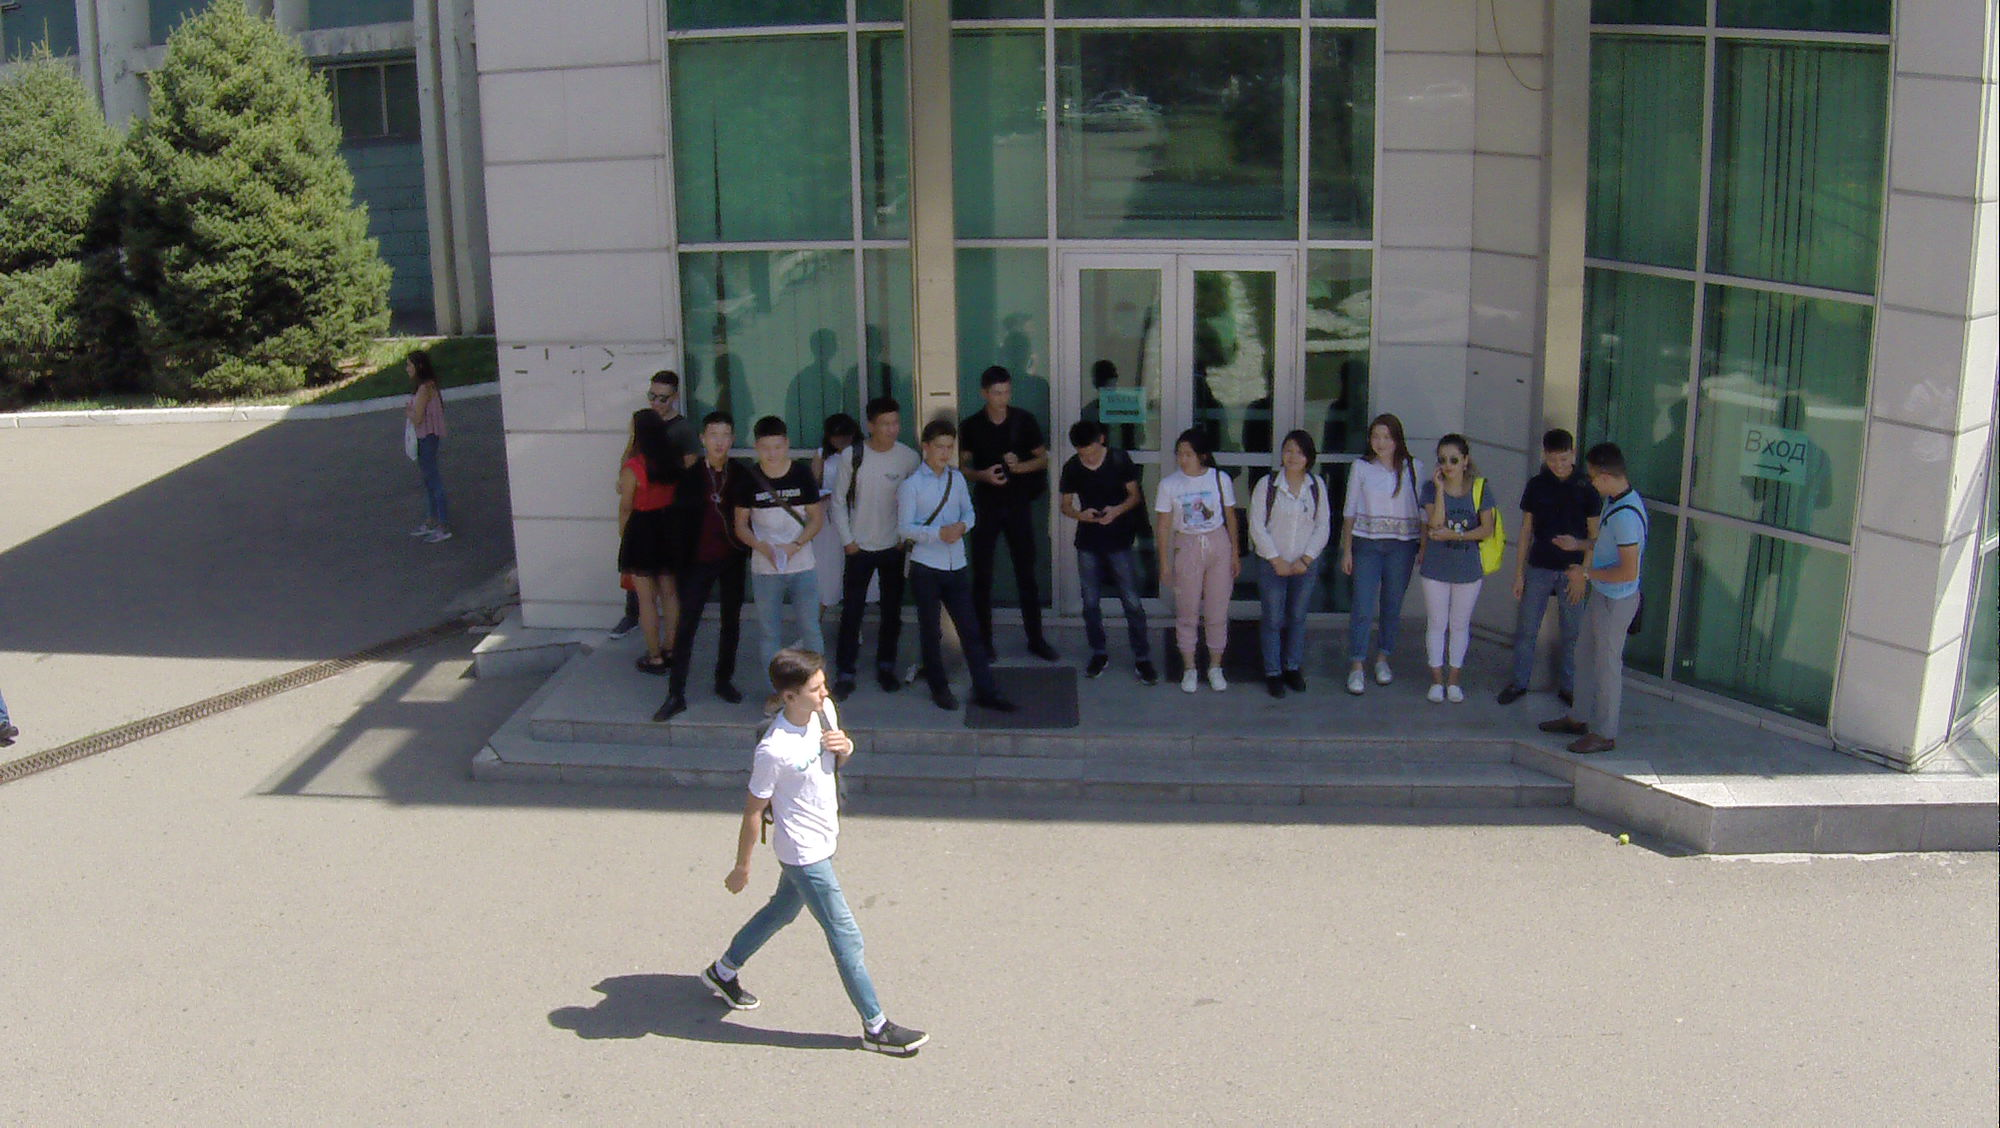person: (695, 635, 941, 1064), (1037, 403, 1174, 703), (1545, 424, 1664, 762), (897, 412, 1005, 724), (955, 364, 1055, 689), (666, 410, 755, 722), (835, 387, 918, 705), (1341, 403, 1424, 710), (1237, 426, 1328, 710), (601, 410, 691, 691), (1414, 430, 1499, 718), (1141, 424, 1230, 699), (1503, 399, 1576, 718), (735, 414, 826, 668), (385, 345, 466, 551), (637, 366, 705, 462)
